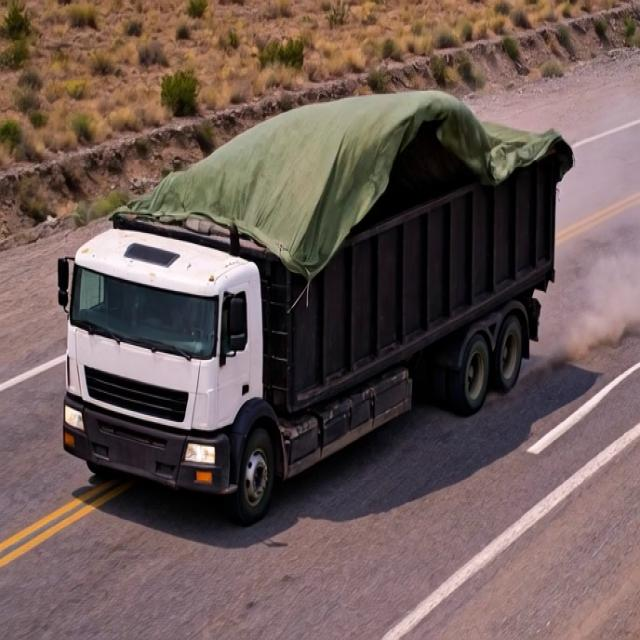Box: (111, 87, 580, 248)
Truck: (47, 49, 584, 502)
